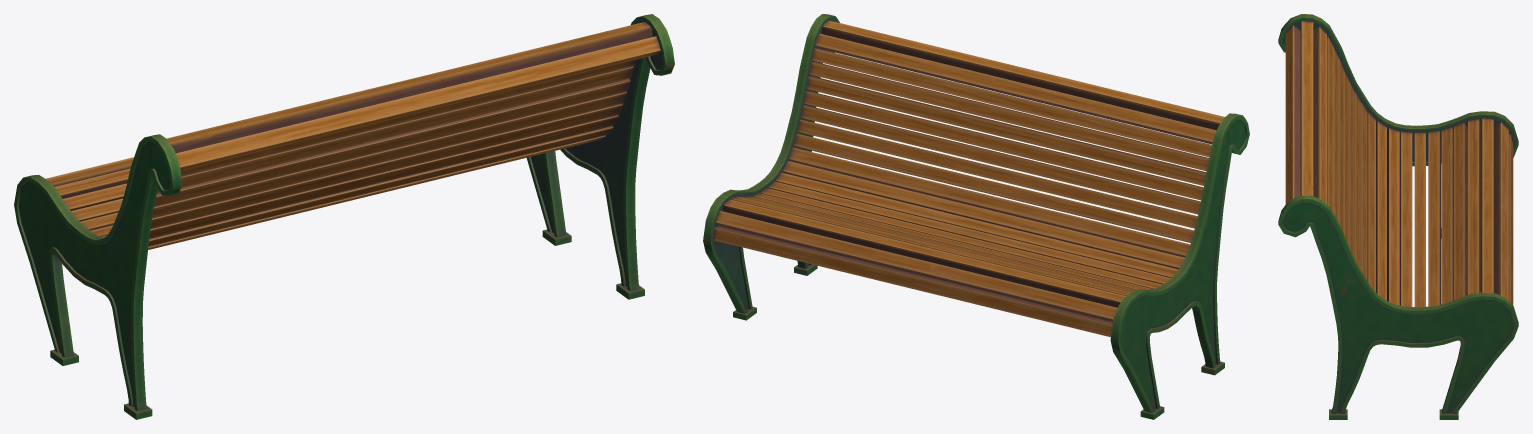
File: comfortable_bench.gltf
The picture shows the model from 3 angles, left to right: view 1: azimuth 30°, elevation 25°; view 2: azimuth 150°, elevation 25°; view 3: azimuth 270°, elevation 25°; orthographic projection. The views are drawn at different scales.
Visible parts, largest first — view 1: Wood, Base; view 2: Wood, Base; view 3: Wood, Base.
Part boxes in pixels (x1=…): Wood: x1=45, y1=22, x2=660, y2=249; Base: x1=14, y1=14, x2=674, y2=419; Wood: x1=713, y1=20, x2=1224, y2=337; Base: x1=703, y1=14, x2=1249, y2=419; Wood: x1=1285, y1=21, x2=1513, y2=307; Base: x1=1278, y1=14, x2=1518, y2=419.
Bounding box in the file's own units: 1.55 × 0.8474 × 0.8401.
Materials: 1 (1 with a texture image).
